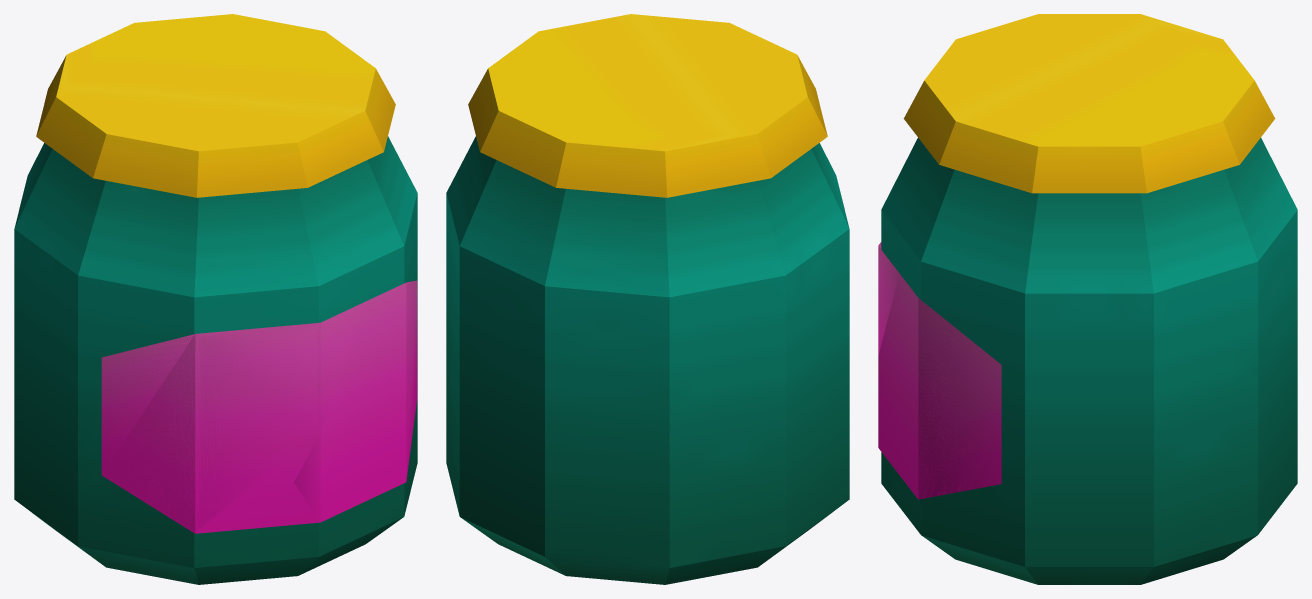
The model's file is Jar_Breakable Two.fbx.
3 views of the same model, side by side, from view 1: azimuth 30°, elevation 25°; view 2: azimuth 150°, elevation 25°; view 3: azimuth 270°, elevation 25° (orthographic).
Parts seen in each view (by area): view 1: Jar_Breakable, Jar_Breakable3, Jar_Breakable1; view 2: Jar_Breakable1, Jar_Breakable, Jar_Breakable2; view 3: Jar_Breakable2, Jar_Breakable, Jar_Breakable3, Jar_Breakable1.
Boxes of the visible parts, bbox=[...] form: Jar_Breakable: bbox=[14, 14, 390, 584]; Jar_Breakable3: bbox=[215, 86, 417, 583]; Jar_Breakable1: bbox=[14, 168, 88, 554]; Jar_Breakable1: bbox=[449, 119, 812, 584]; Jar_Breakable: bbox=[483, 14, 849, 534]; Jar_Breakable2: bbox=[446, 65, 492, 472]; Jar_Breakable2: bbox=[1002, 145, 1206, 584]; Jar_Breakable: bbox=[878, 14, 1264, 355]; Jar_Breakable3: bbox=[878, 169, 1044, 577]; Jar_Breakable1: bbox=[1147, 100, 1297, 582].
Bounding box in the file's own units: 20.75 × 25.31 × 21.97.
Materials: 1 (1 with a texture image).
